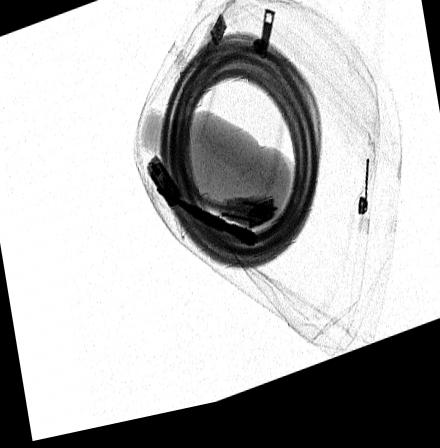Gun: (154, 185, 259, 257)
